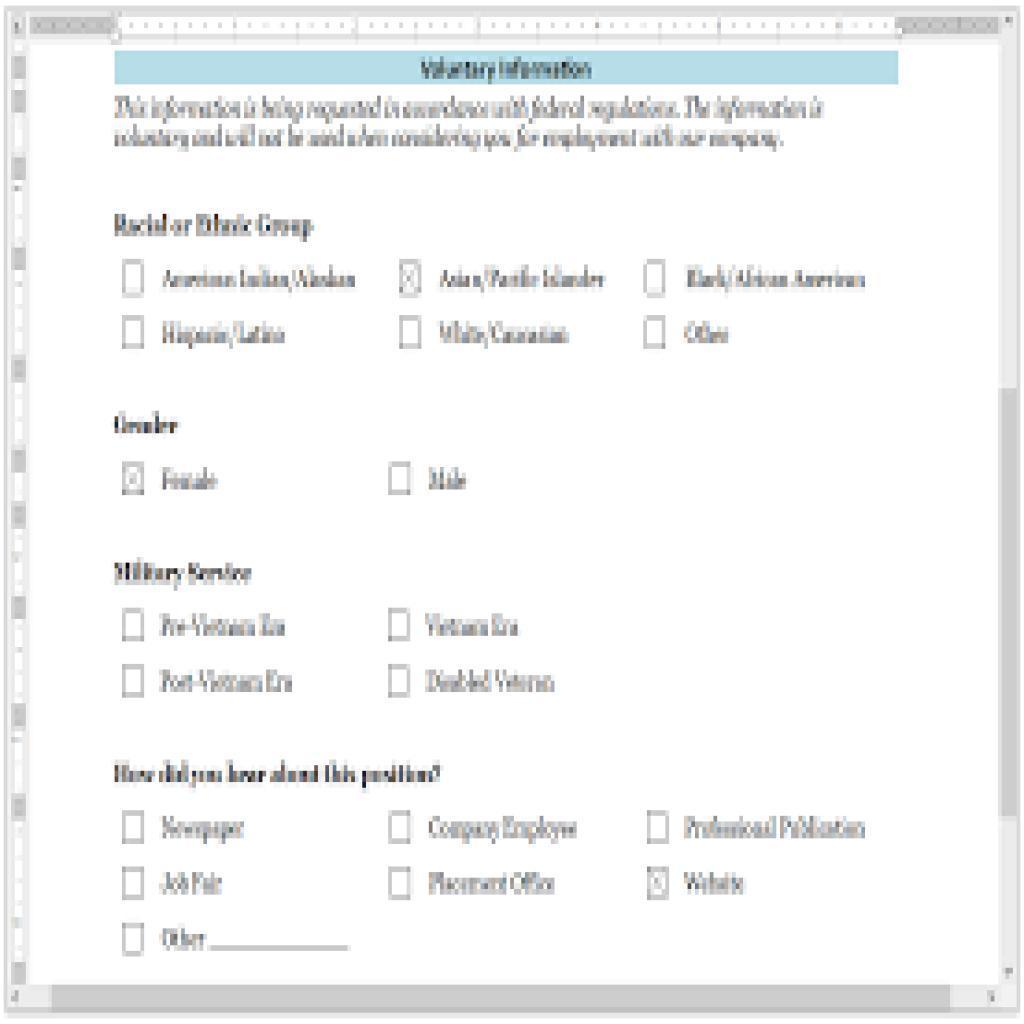checkbox: (398, 262, 423, 301), (122, 462, 146, 498), (389, 664, 413, 699), (122, 262, 145, 297), (123, 811, 146, 846), (646, 260, 667, 298), (649, 866, 670, 903), (644, 316, 666, 350), (123, 608, 145, 642), (390, 610, 411, 645), (391, 812, 412, 847), (123, 665, 144, 699), (649, 814, 672, 845), (123, 318, 144, 351), (390, 462, 412, 493), (122, 868, 144, 898), (401, 319, 422, 350), (390, 867, 410, 898), (123, 924, 144, 953)
label: (114, 760, 449, 794), (109, 206, 316, 248), (681, 810, 872, 851), (160, 267, 363, 297), (688, 265, 872, 296), (442, 267, 609, 297), (106, 562, 265, 593), (160, 316, 290, 352), (428, 815, 579, 844), (161, 612, 293, 645), (438, 320, 571, 352), (428, 866, 558, 898), (158, 667, 292, 698), (425, 670, 554, 702), (425, 607, 521, 644), (162, 811, 249, 845), (112, 411, 192, 441), (684, 866, 752, 900), (162, 866, 226, 901), (161, 467, 222, 498), (163, 925, 208, 957), (684, 320, 731, 348), (427, 464, 468, 494)
